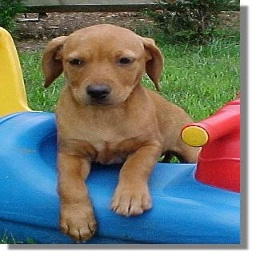dog: (41, 21, 206, 241)
